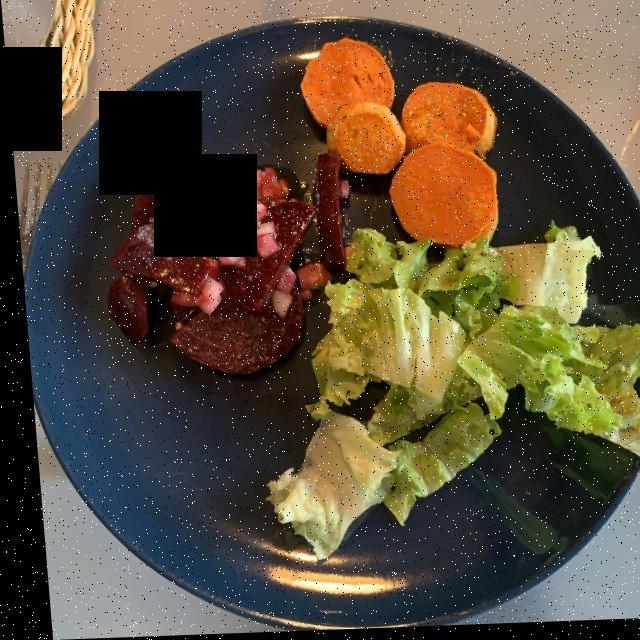beetroot: (109, 147, 335, 367)
onion: (134, 127, 316, 315)
salad: (267, 240, 640, 549)
sweet-potato: (299, 45, 493, 246)
